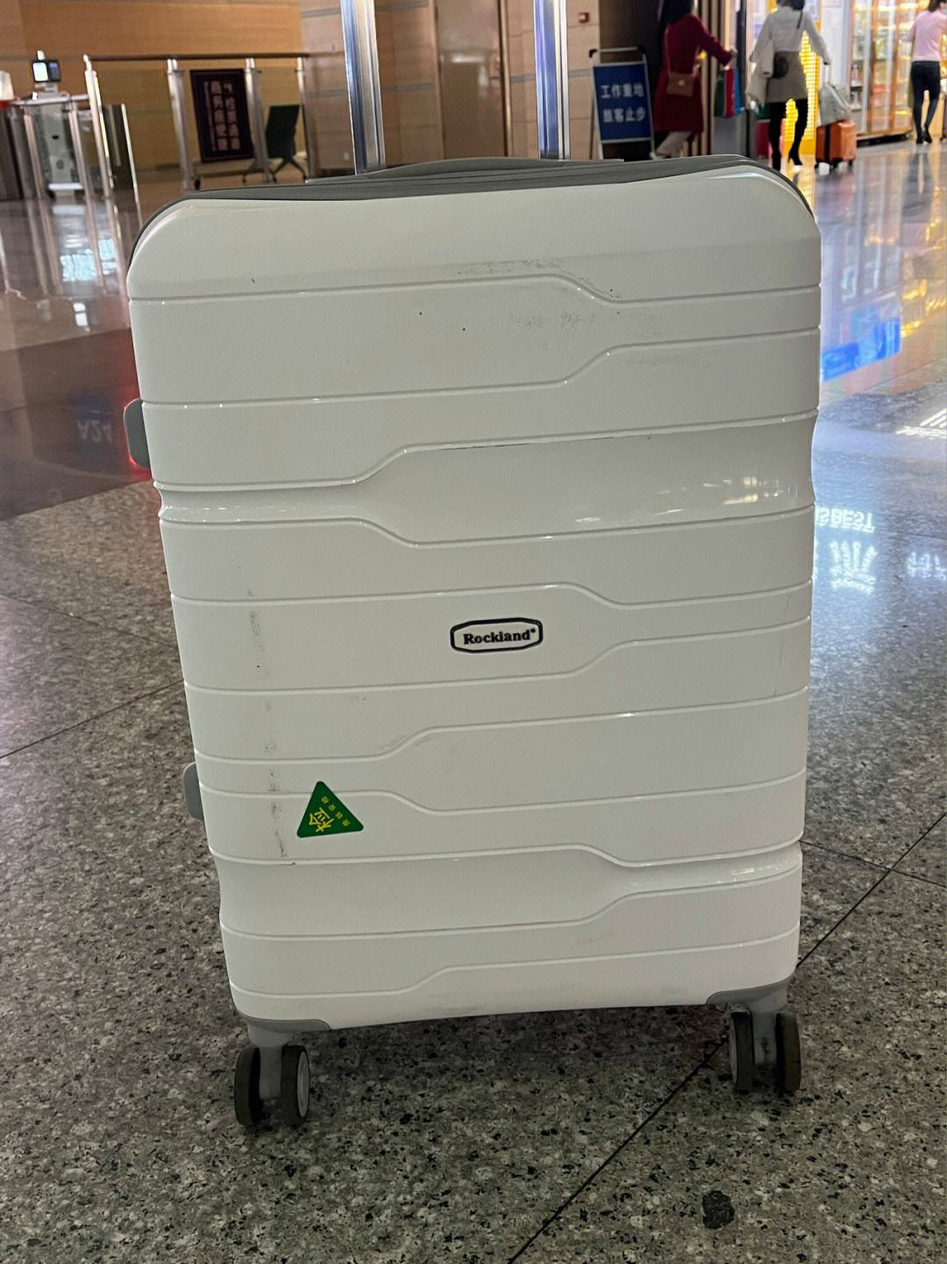box: (124, 154, 823, 1035)
wheel: (231, 1044, 310, 1128), (727, 1010, 801, 1096)
